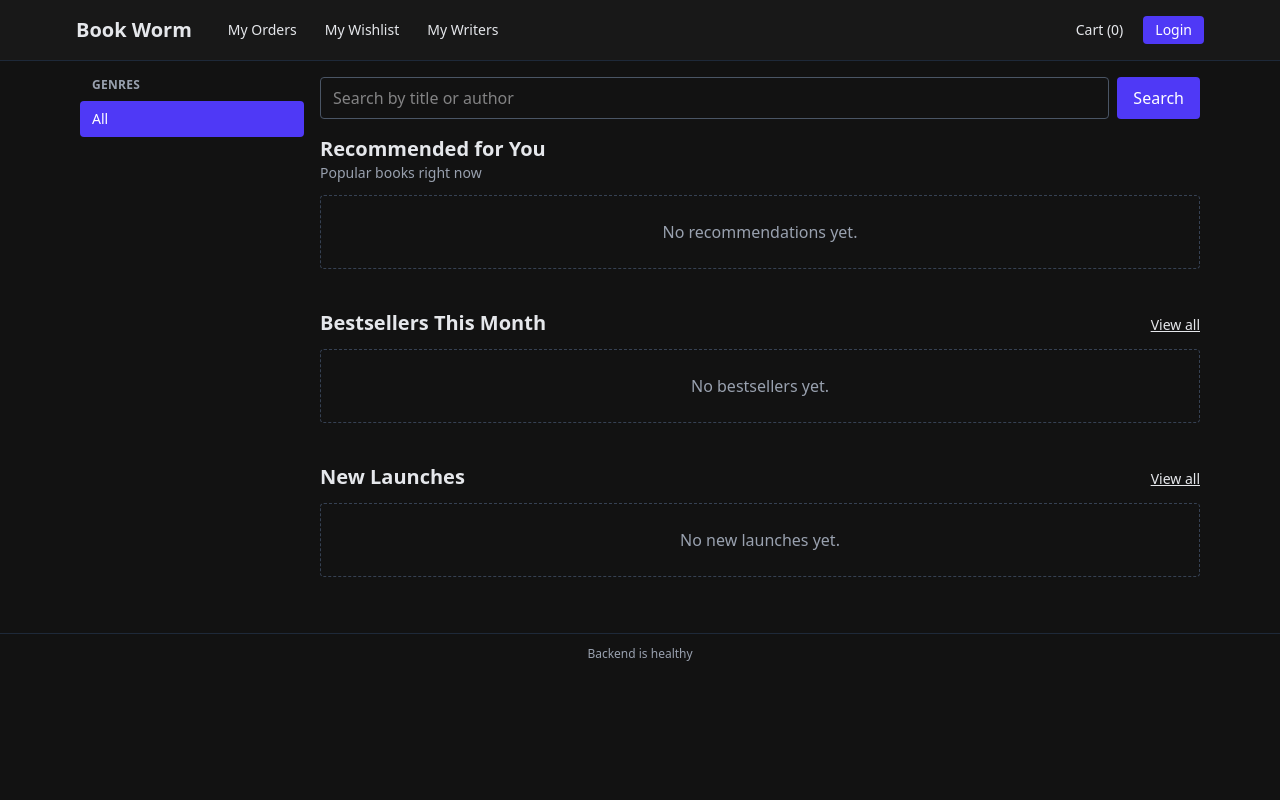
Test: LoginModal › signs in, shows the profile control, and signs out
Click the button "Login". click: (1174, 30)
box: [1143,16,1204,44]
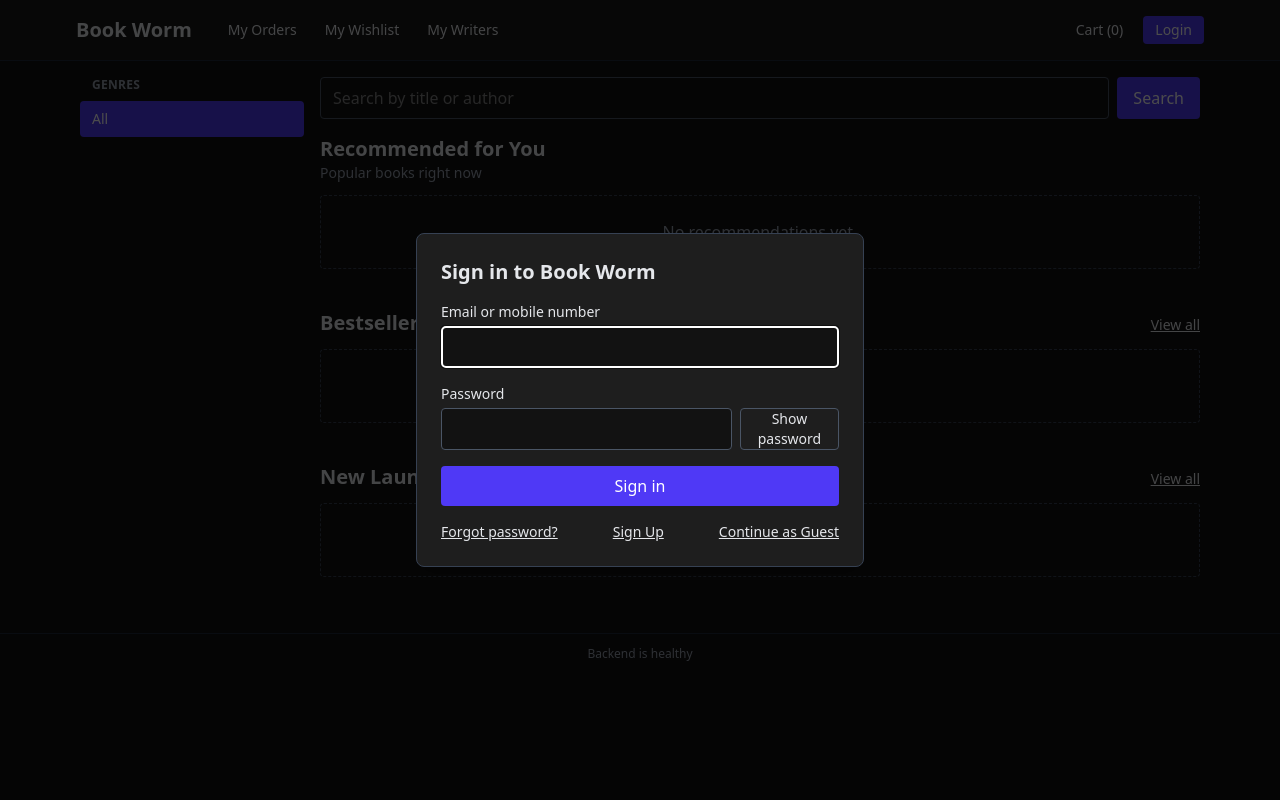
Type "asha@example.com" into the field labelled "Email or mobile number". click: (640, 347)
box: [441,326,839,368]
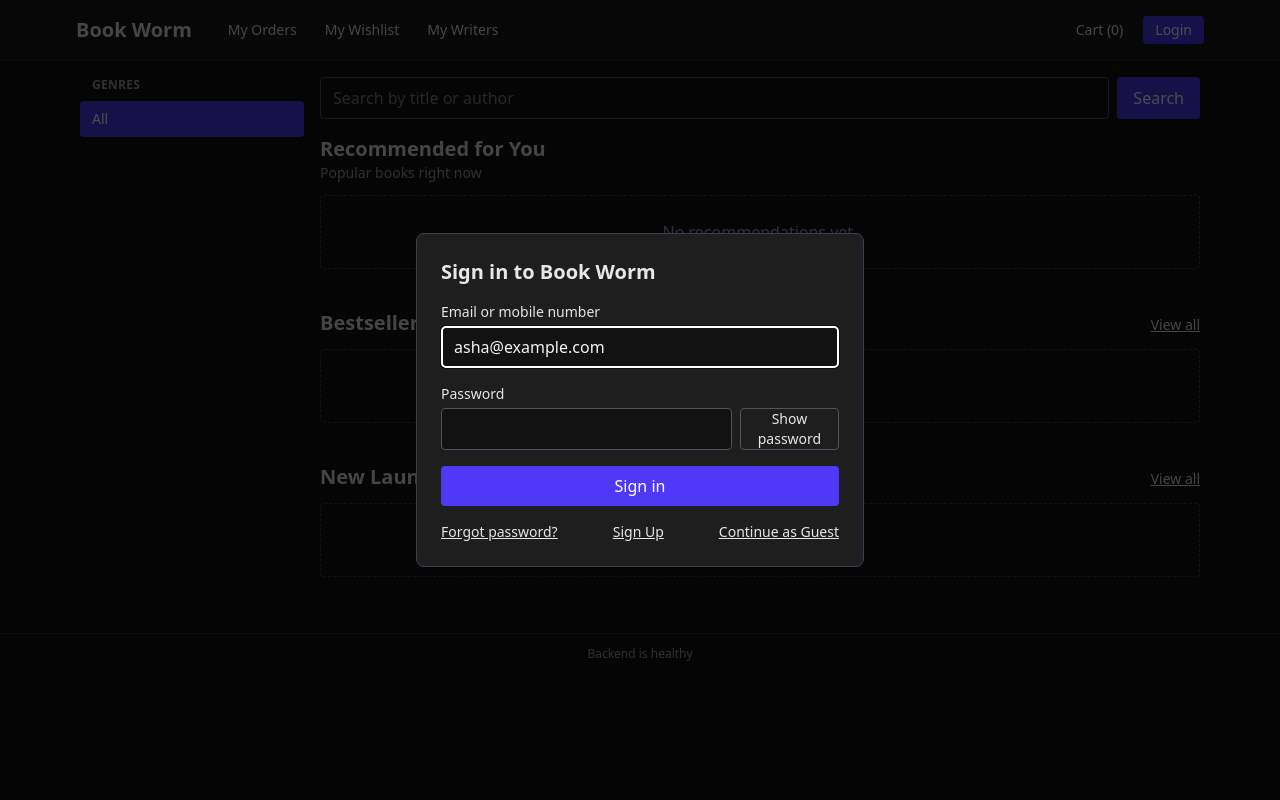
Type "Sup3rSecret" into the password field labelled "Password". click: (586, 429)
box: [441,408,732,450]
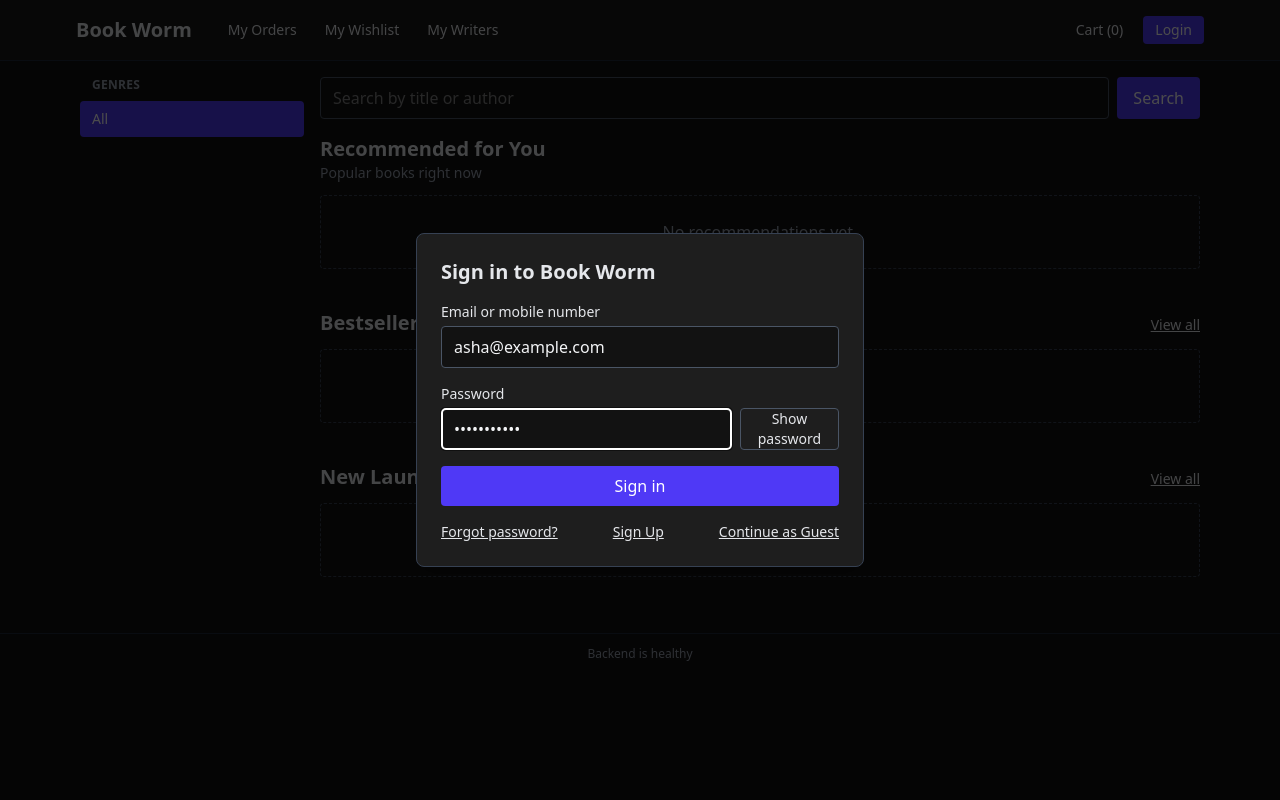
Click the button "Sign in". click: (640, 486)
box: [441,466,839,506]
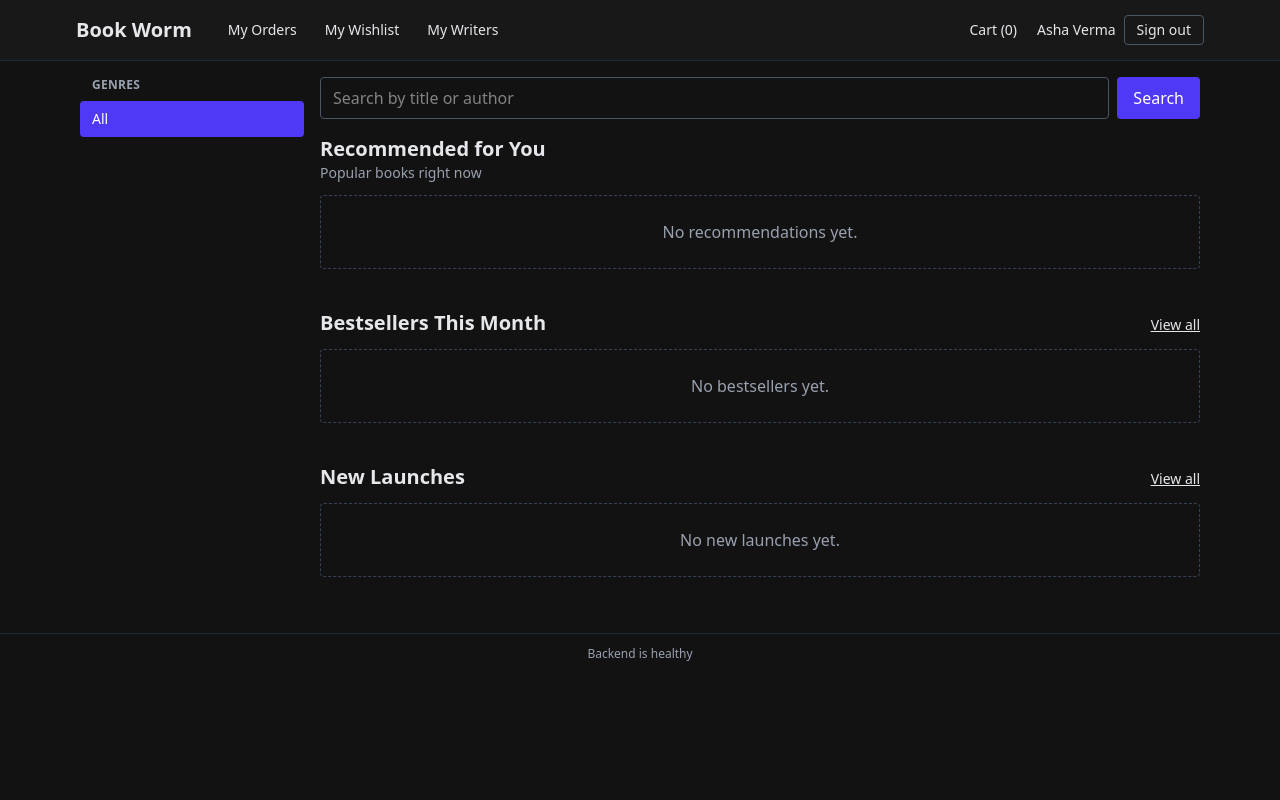
Expected: the text "Asha Verma" is shown, [1037,20,1116,40]
Click the button "Sign out". click: (1164, 30)
box: [1124,15,1204,45]
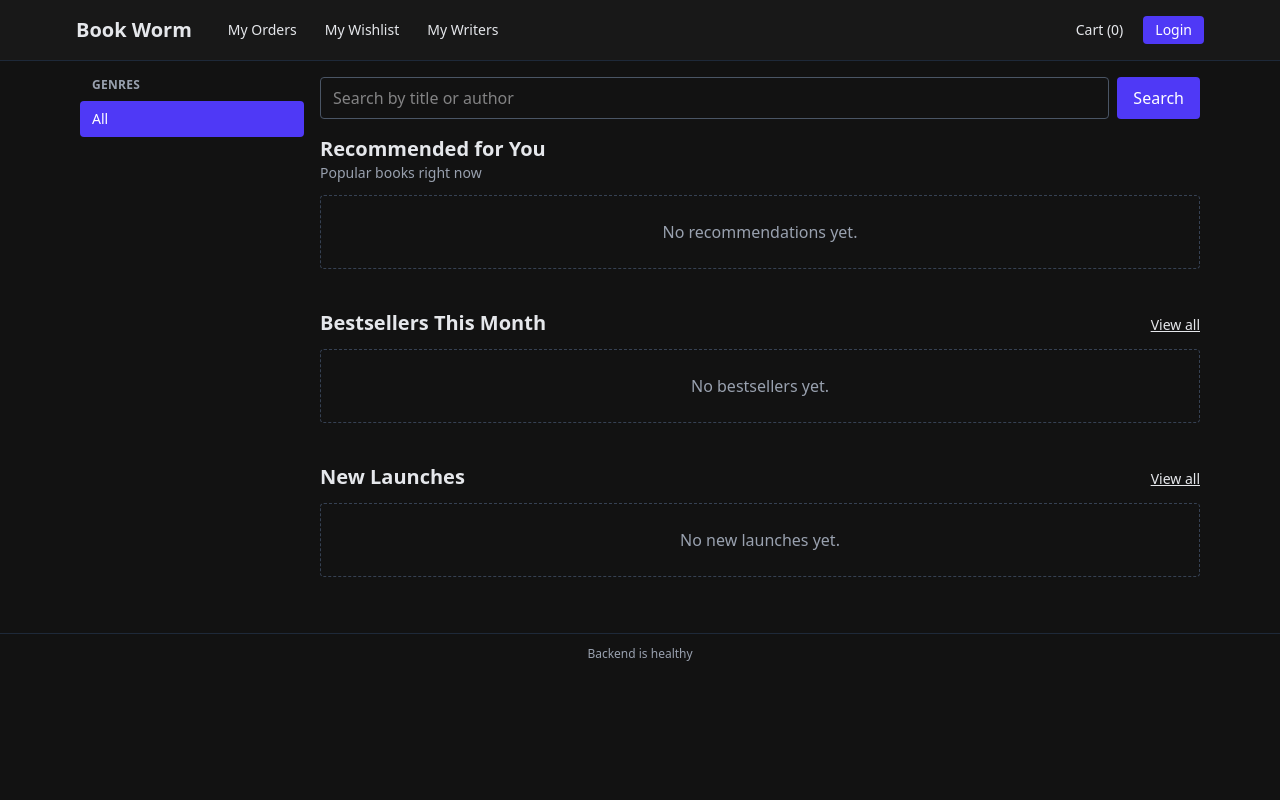
Expected: the button "Login" is shown, [1143,16,1204,44]
